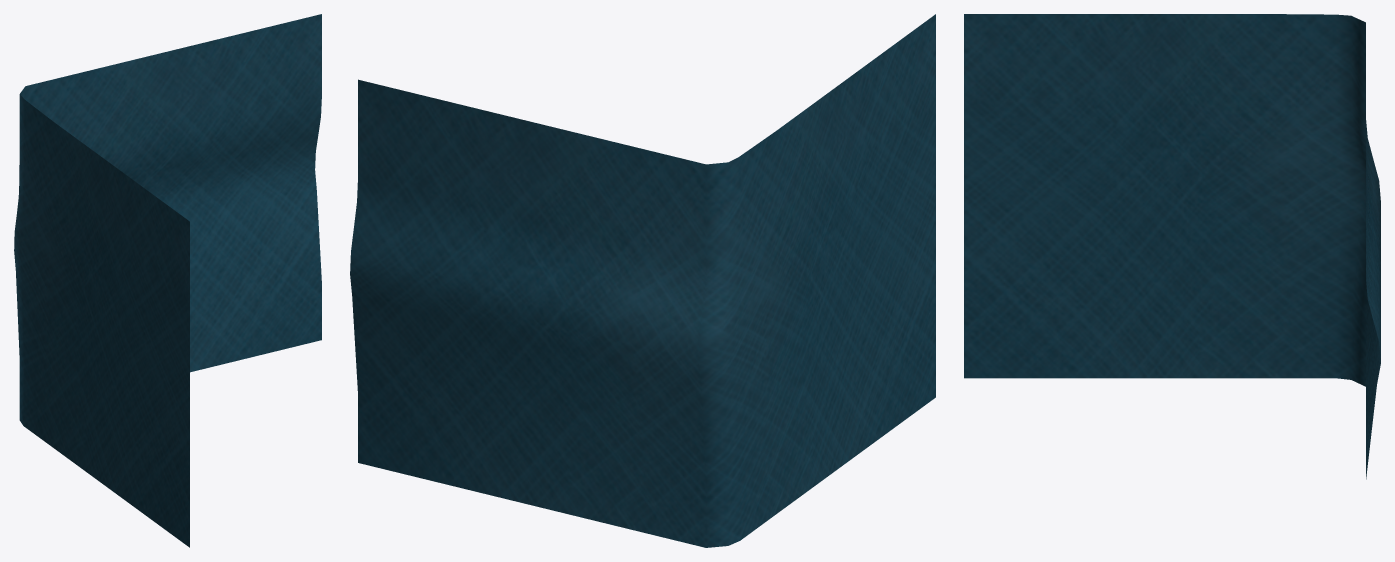
Rendered from tl_fallL.FBX.
3 renders of one model, left to right at view 1: azimuth 30°, elevation 25°; view 2: azimuth 150°, elevation 25°; view 3: azimuth 270°, elevation 25°, orthographic. The views are drawn at different scales.
Visible parts, largest first — view 1: tl_fallleft_FINAL; view 2: tl_fallleft_FINAL; view 3: tl_fallleft_FINAL.
Boxes of the visible parts, box(x1,y1,x2,y2) form: tl_fallleft_FINAL: box(14, 14, 321, 547); tl_fallleft_FINAL: box(350, 14, 935, 547); tl_fallleft_FINAL: box(964, 14, 1380, 479).
Size of the model in its own units: 100 by 100 by 104.
